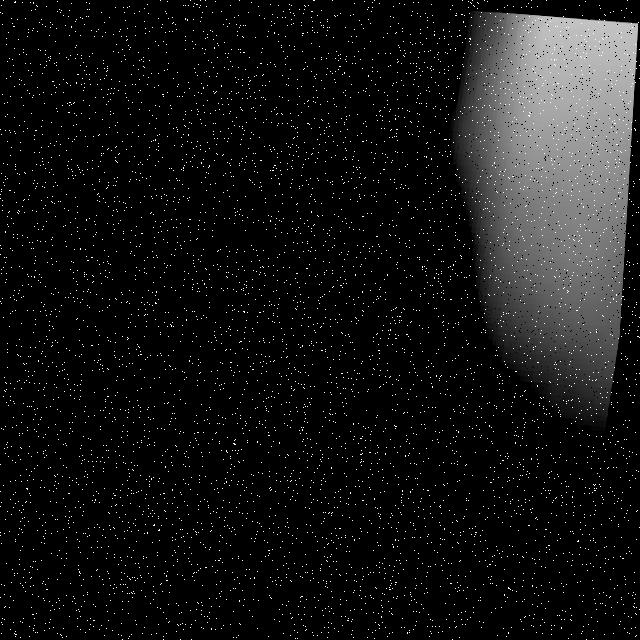person: (395, 8, 640, 495)
